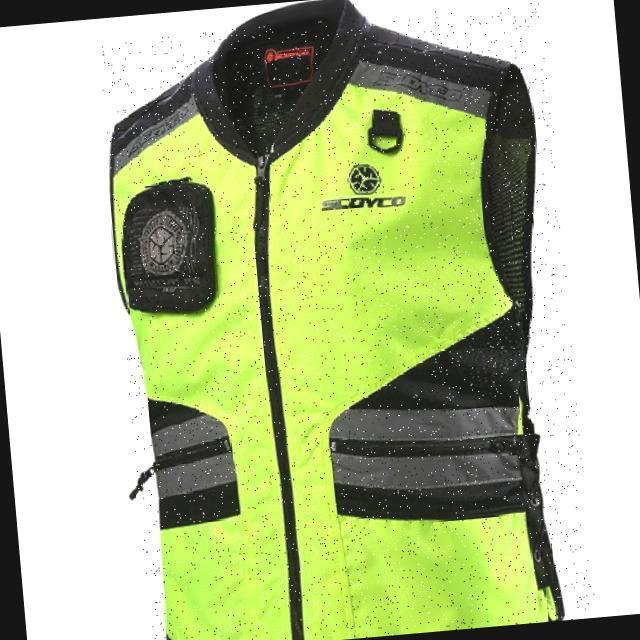vest: (98, 1, 596, 640)
